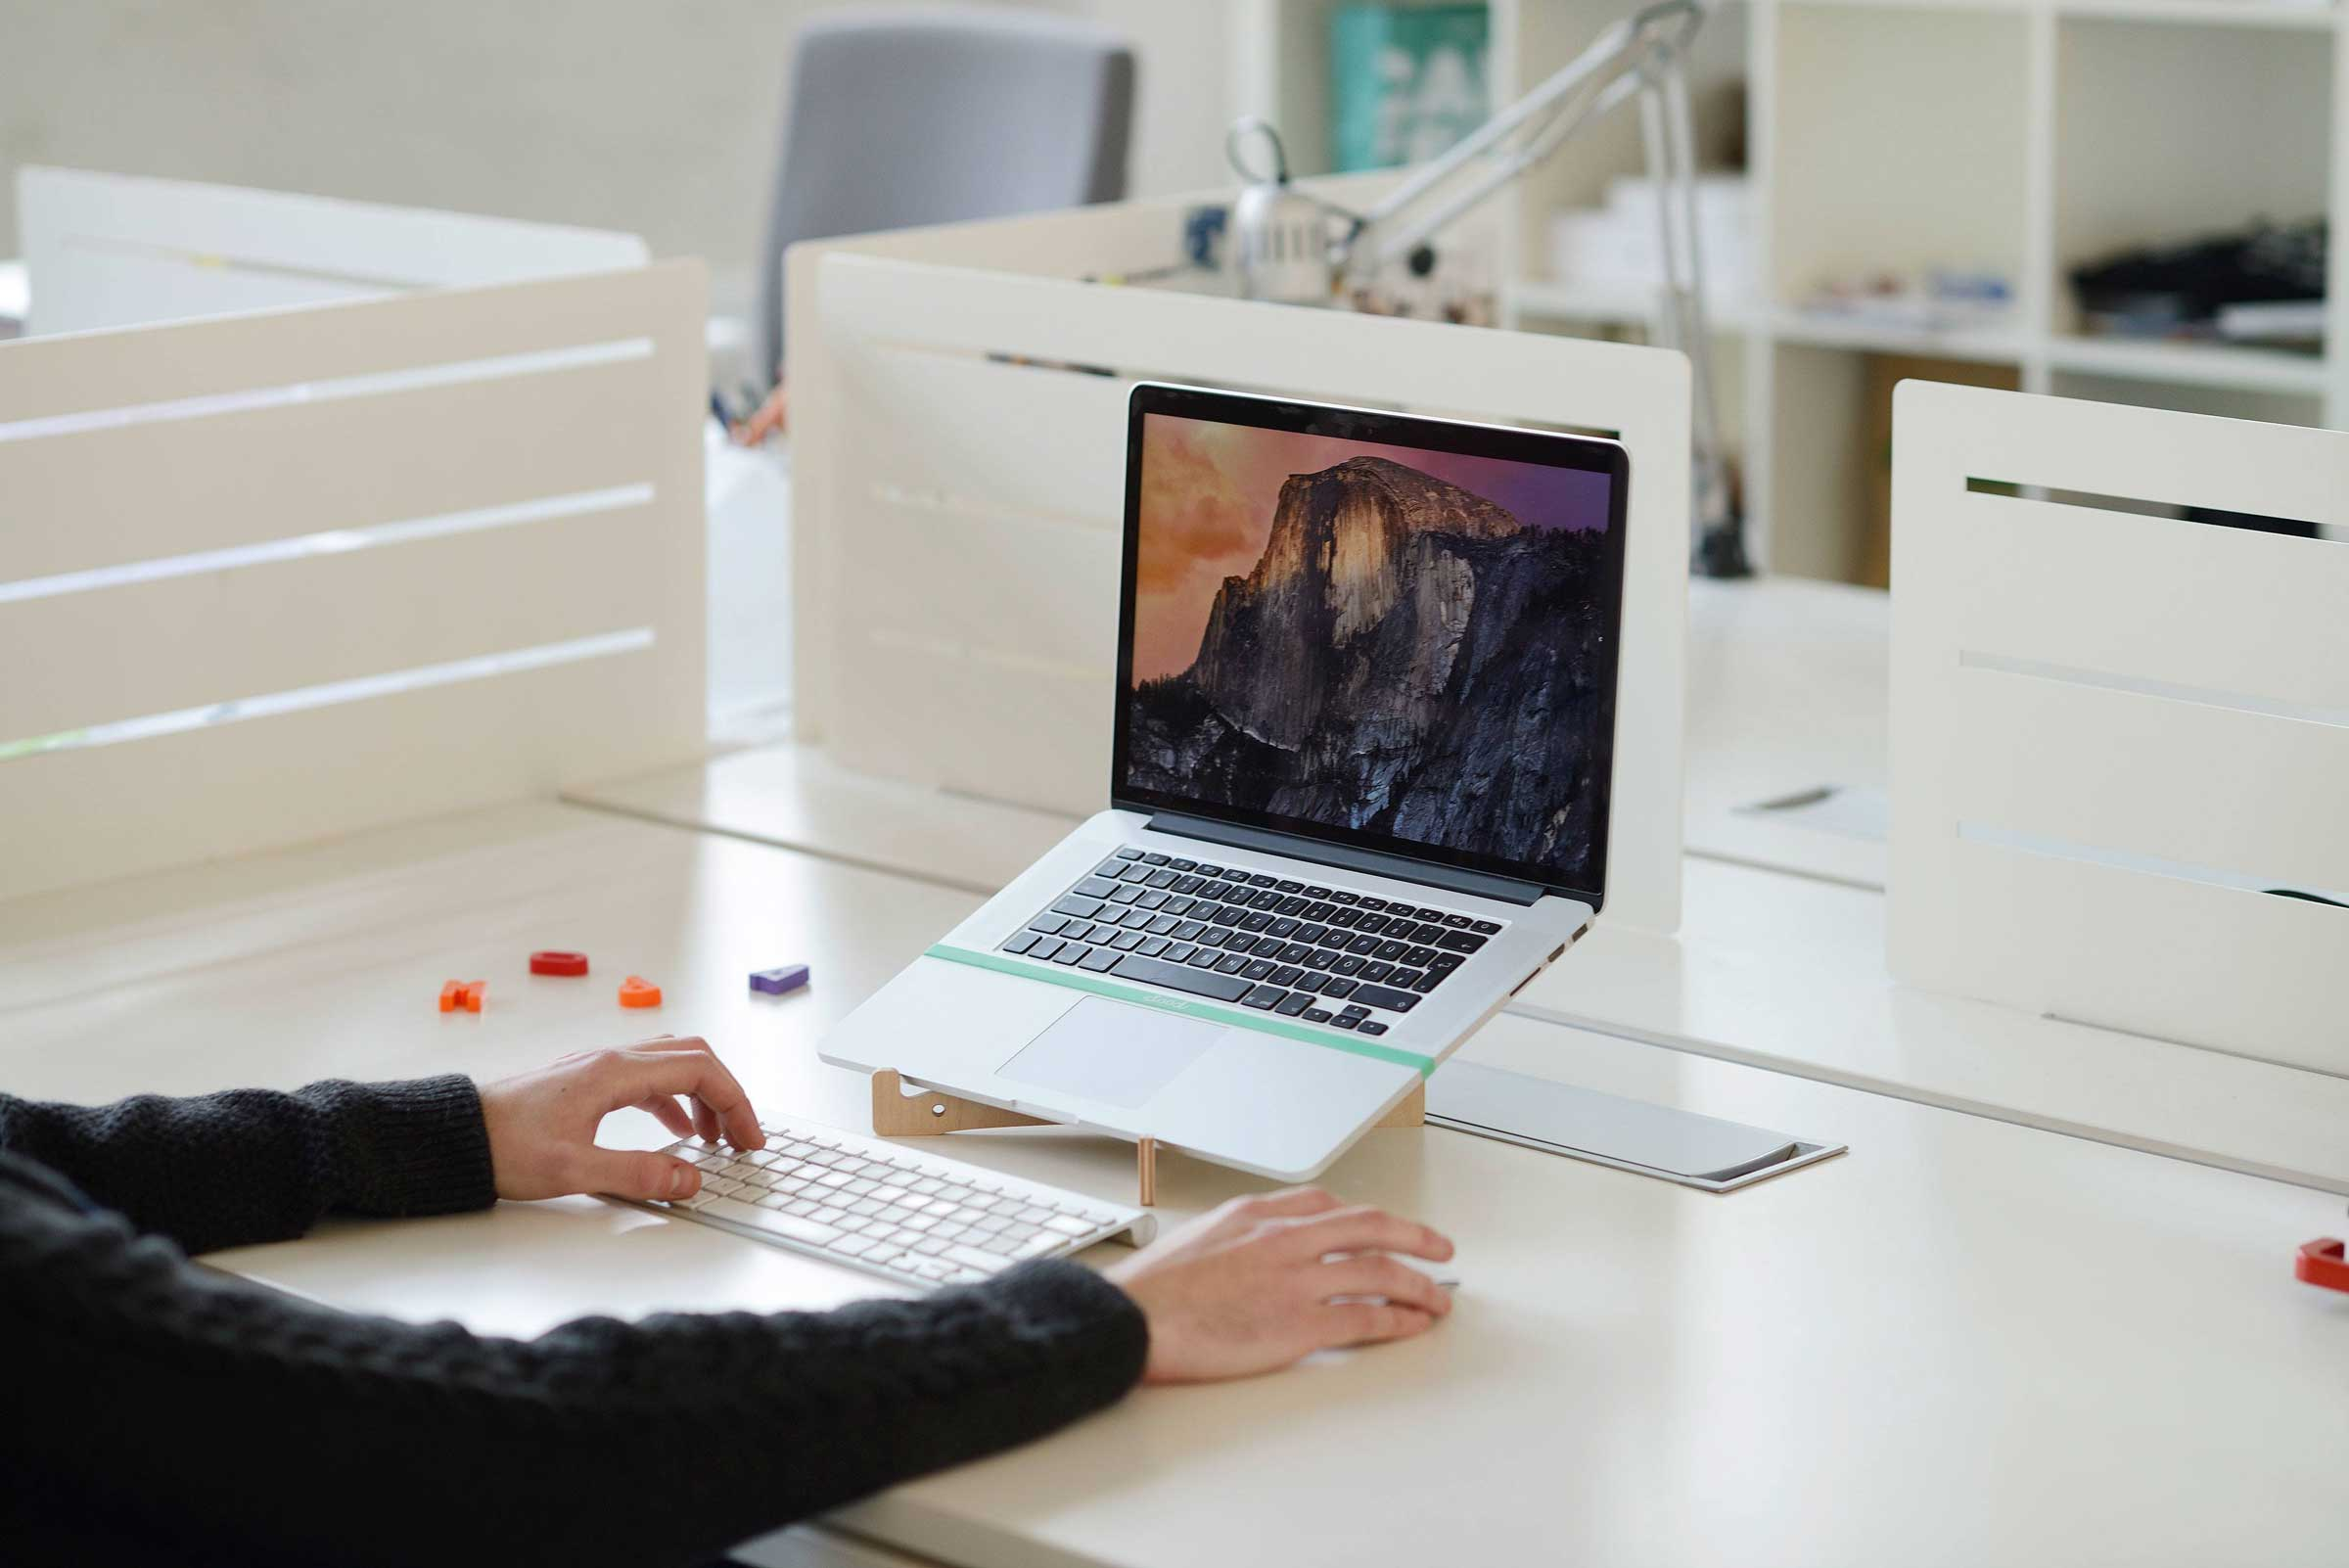Laptop: (805, 364, 1655, 1218)
